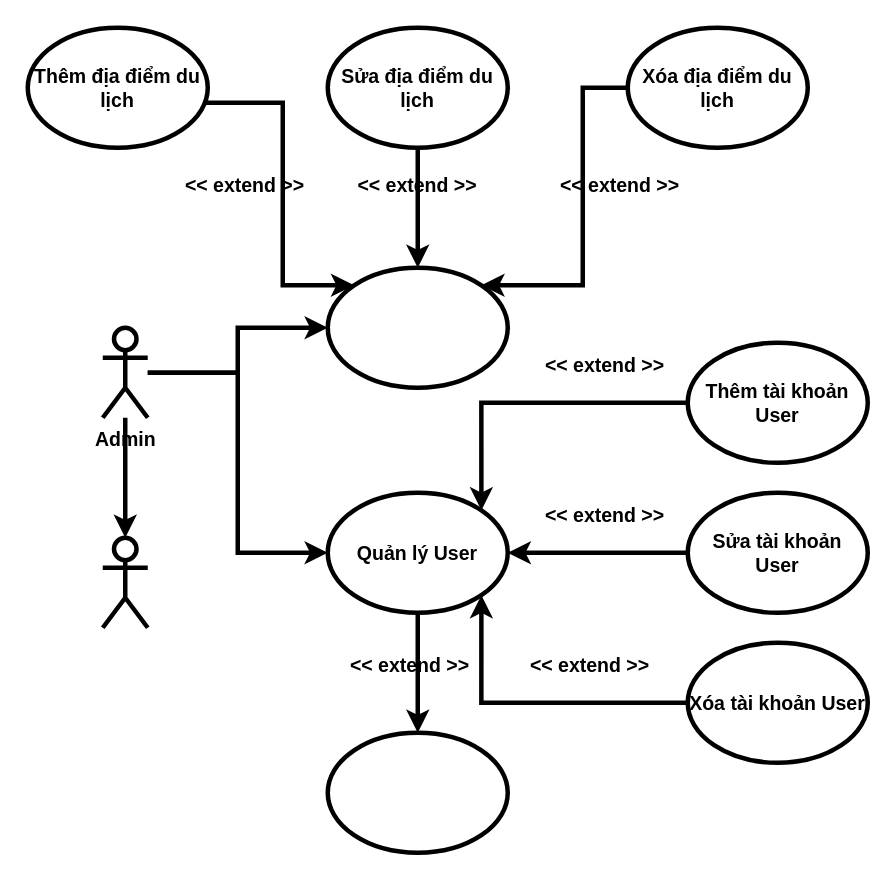
Image size: 896x881. Some labels were removed from this diagram. Each missing label, with the centre of its shape:
"Quản lý địa điểm du lịch" goes at pixel 417 327.
"User" goes at pixel 124 582.
"Đăn nhập (admin)" goes at pixel 417 792.
